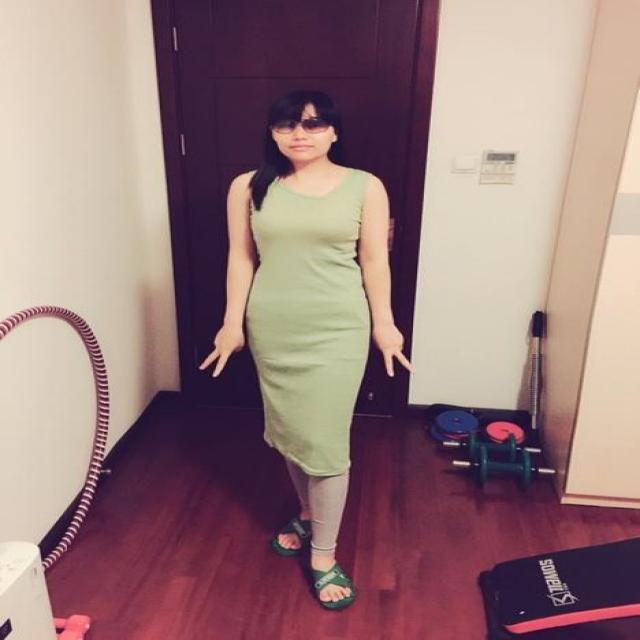vest dress: (250, 170, 371, 469)
